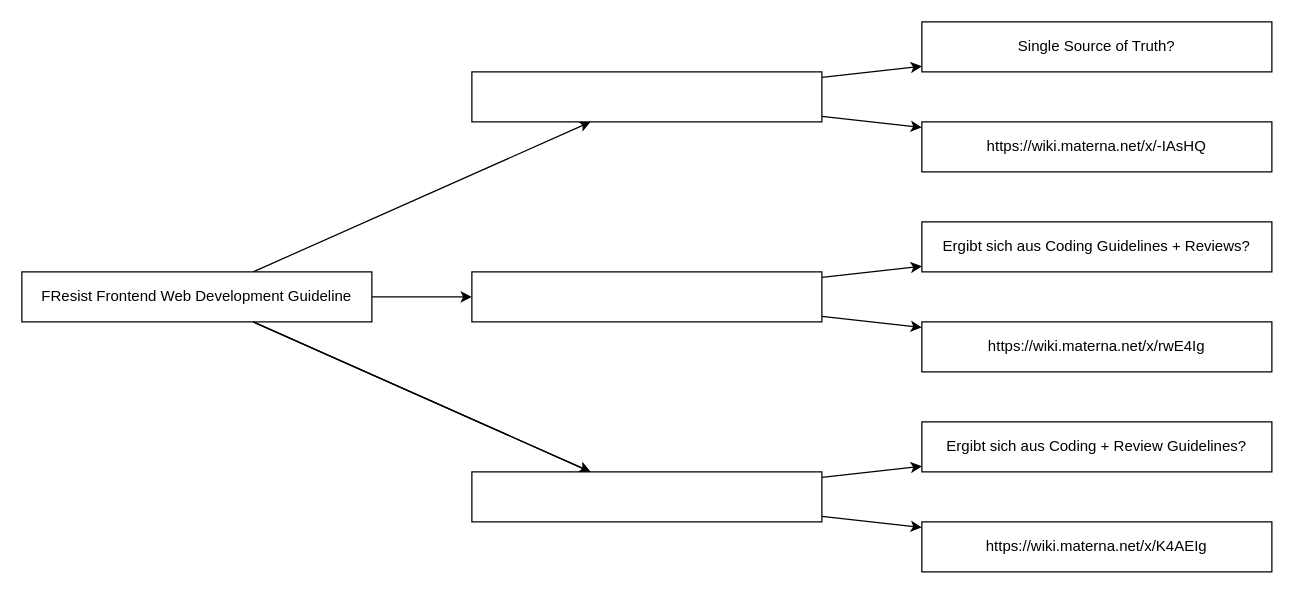
The diagram is 1294 pixels wide and 594 high, and some of its shapes have lost their labels. Here are the shapes that lost their labels. From the top down, the box of each, then its label:
(471, 71, 822, 122): Coding Guidelines
(471, 271, 822, 322): Review Guidelines
(471, 471, 822, 522): AI Guidelines
